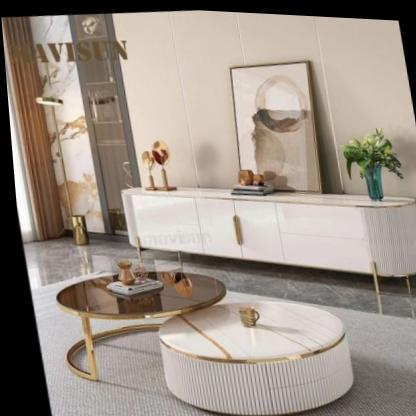Sideboard: (118, 185, 416, 295)
